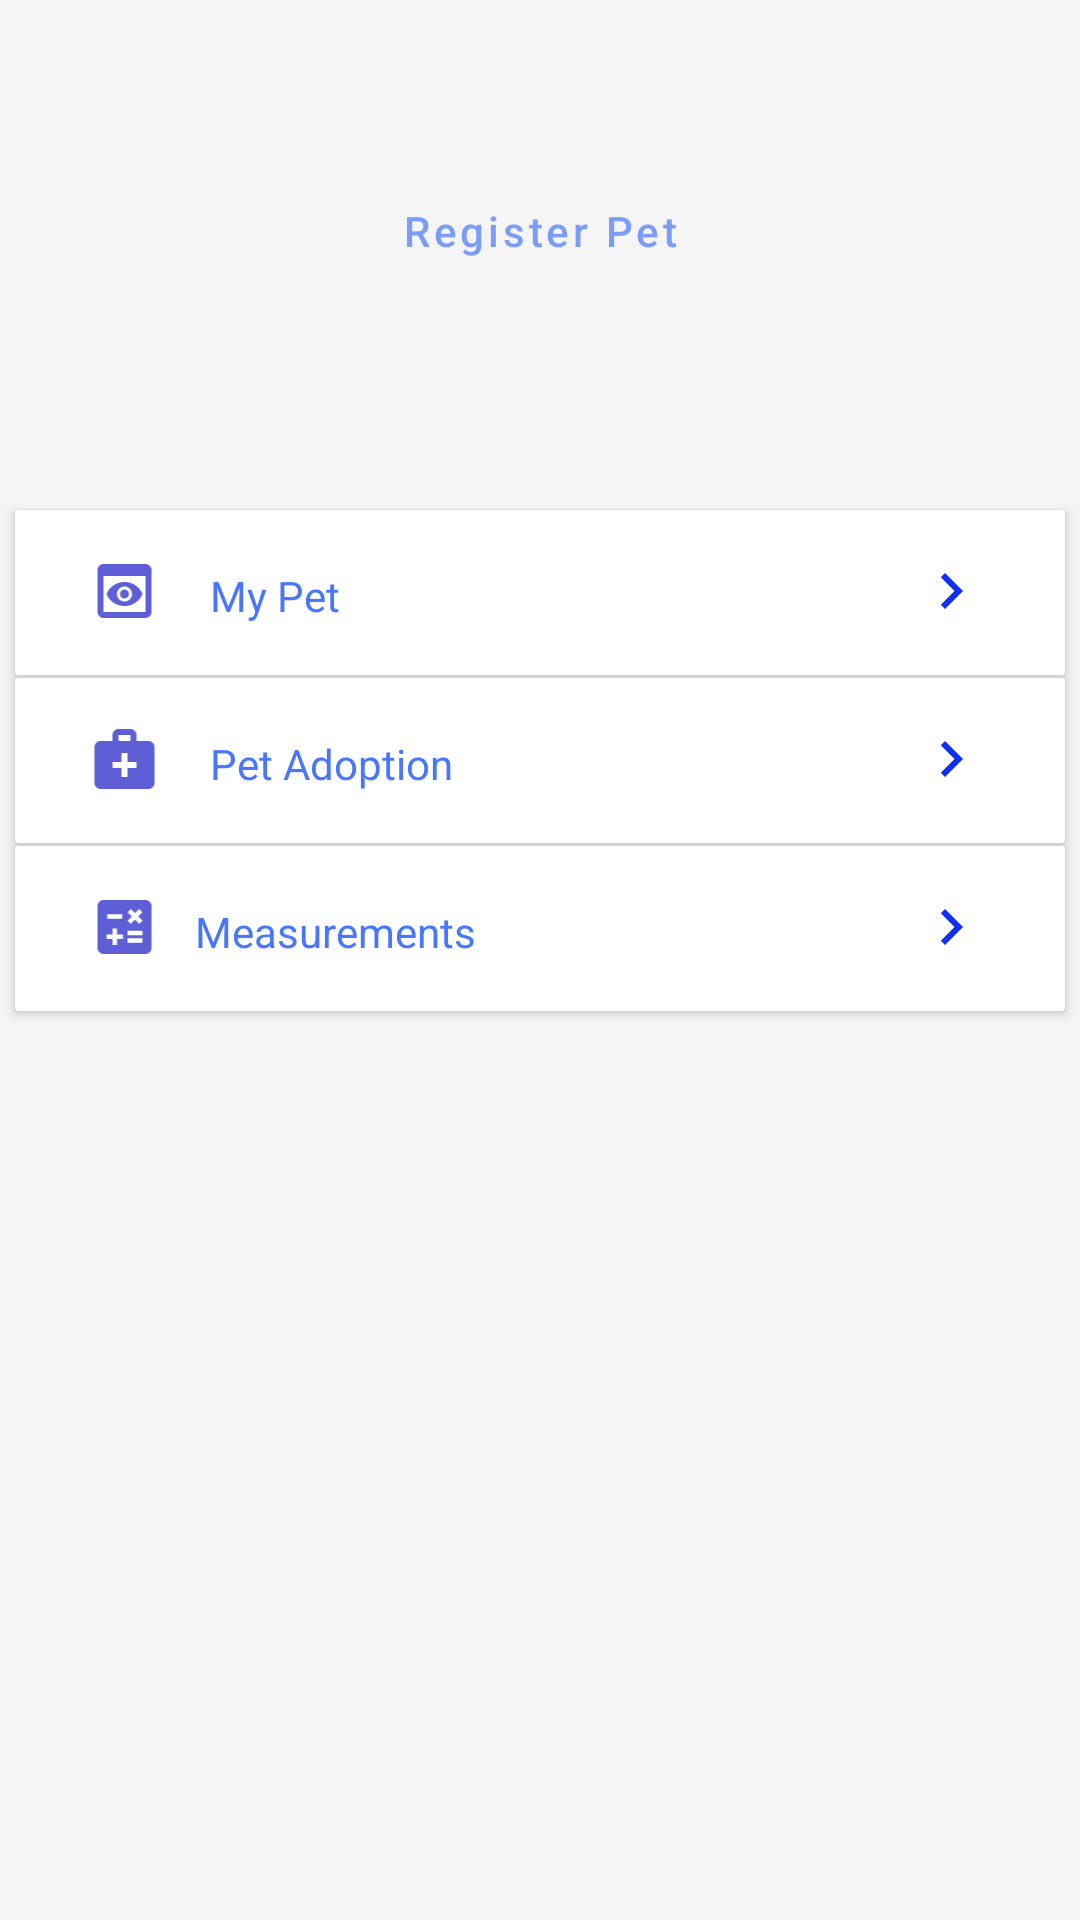

Screen size 1080*1920. Icon name, then its center in pixels as (x,y):
calculate: (124,927)
medical services: (124,759)
navigate next: (952,591), (952,759), (952,927)
